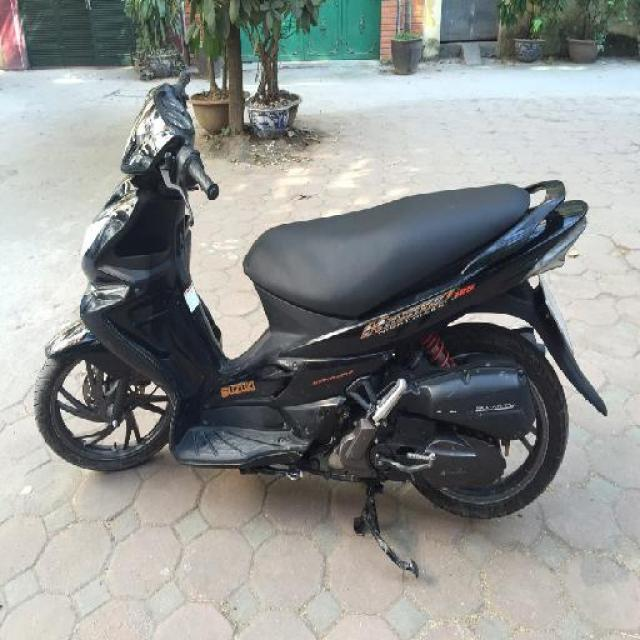All: (33, 74, 608, 578)
Head: (112, 78, 224, 207)
Tail: (496, 178, 586, 270)
